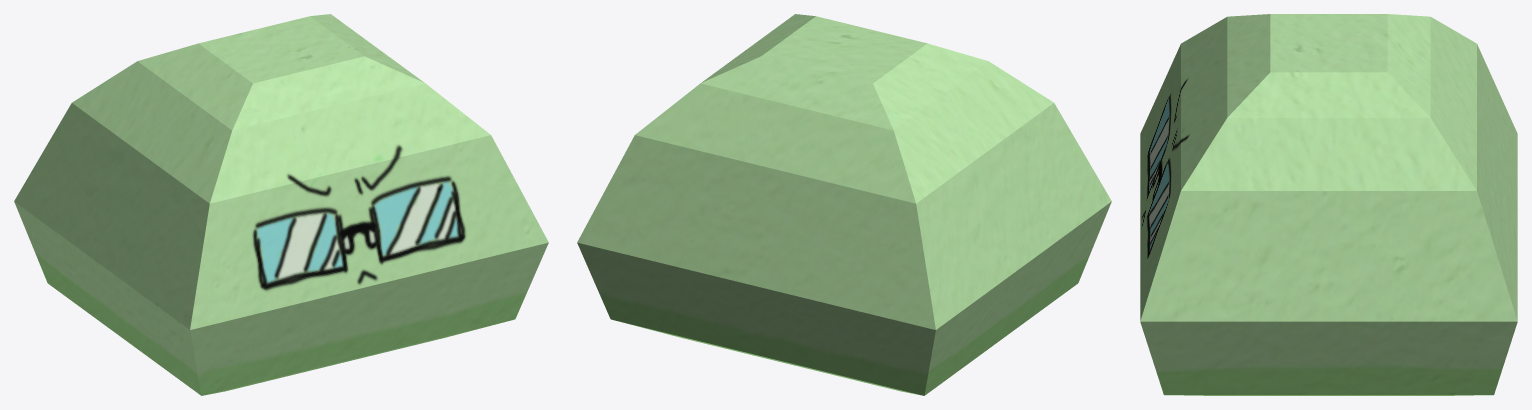
File: слайм4.fbx
The picture shows the model from 3 angles, left to right: view 1: azimuth 30°, elevation 25°; view 2: azimuth 150°, elevation 25°; view 3: azimuth 270°, elevation 25°; orthographic projection. The views are drawn at different scales.
Parts seen in each view (by area): view 1: Cube; view 2: Cube; view 3: Cube.
Boxes of the visible parts, x1,y1,x2,y2 form: Cube: (14, 14, 548, 395); Cube: (577, 14, 1111, 395); Cube: (1140, 14, 1517, 395).
Bounding box in the file's own units: 198 × 145 × 168.
